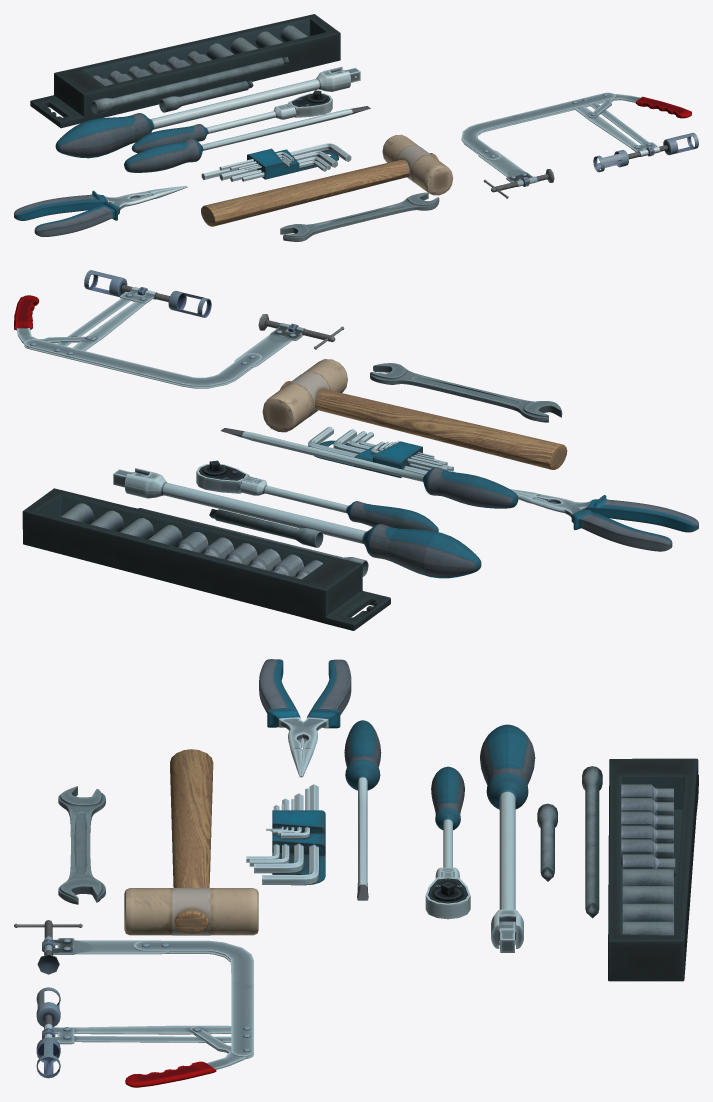
The model's file is Herramientas_armado_MOTOR.fbx.
3 renders of one model, top to bottom at view 1: azimuth 30°, elevation 25°; view 2: azimuth 150°, elevation 25°; view 3: azimuth 270°, elevation 25°, orthographic. The views are drawn at different scales.
Visible parts, largest first — view 1: Cube.003, Cylinder.006, Cylinder, Cylinder.005, Cylinder.033, Plane, Cylinder.003, Plane.010, Plane.002, Plane.009, Cube.002, Cylinder.008 (+8 smaller); view 2: Cube.003, Cylinder.006, Cylinder, Cylinder.005, Plane, Cylinder.003, Plane.002, Plane.009, Plane.010, Cylinder.034, Cylinder.008, Cylinder.009 (+8 smaller); view 3: Cylinder.006, Cube.003, Cylinder, Plane.002, Cylinder.005, Plane, Plane.010, Plane.009, Cube.002, Cylinder.033, Cylinder.003, Plane.008 (+18 smaller).
Boxes of the visible parts, bbox=[...] form: Cube.003: bbox=[30, 14, 340, 128]; Cylinder.006: bbox=[201, 134, 453, 226]; Cylinder: bbox=[55, 66, 350, 158]; Cylinder.005: bbox=[124, 106, 370, 172]; Cylinder.033: bbox=[91, 56, 289, 114]; Plane: bbox=[280, 192, 439, 241]; Cylinder.003: bbox=[131, 103, 296, 153]; Plane.010: bbox=[14, 186, 187, 220]; Plane.002: bbox=[461, 92, 615, 160]; Plane.009: bbox=[34, 186, 186, 236]; Cube.002: bbox=[247, 148, 339, 179]; Cylinder.008: bbox=[593, 132, 698, 172]; Cube.003: bbox=[22, 488, 390, 630]; Cylinder.006: bbox=[262, 359, 567, 469]; Cylinder: bbox=[124, 468, 481, 578]; Cylinder.005: bbox=[221, 428, 518, 508]; Plane: bbox=[370, 363, 562, 422]; Cylinder.003: bbox=[240, 476, 438, 531]; Plane.002: bbox=[24, 339, 262, 386]; Plane.009: bbox=[513, 491, 698, 532]; Plane.010: bbox=[510, 489, 672, 551]; Cylinder.034: bbox=[209, 509, 323, 547]; Cylinder.008: bbox=[84, 270, 211, 317]; Cylinder.009: bbox=[196, 460, 256, 493]; Cylinder.006: bbox=[124, 749, 258, 935]; Cube.003: bbox=[608, 758, 698, 981]; Cylinder: bbox=[480, 724, 535, 948]; Plane.002: bbox=[134, 940, 253, 1056]; Cylinder.005: bbox=[344, 720, 381, 900]; Plane: bbox=[58, 786, 105, 904]; Plane.010: bbox=[288, 659, 351, 777]; Plane.009: bbox=[259, 659, 317, 777]; Cube.002: bbox=[272, 810, 325, 885]; Cylinder.033: bbox=[582, 766, 602, 918]; Cylinder.003: bbox=[431, 766, 464, 878]; Plane.008: bbox=[125, 1027, 252, 1087].
Bounding box in the file's own units: 1739 × 112 × 1160.
